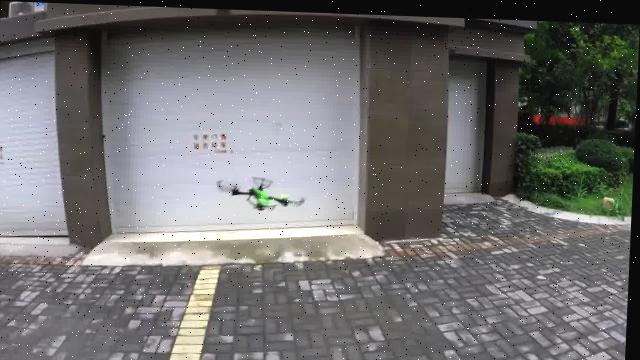drone: (215, 164, 304, 219)
